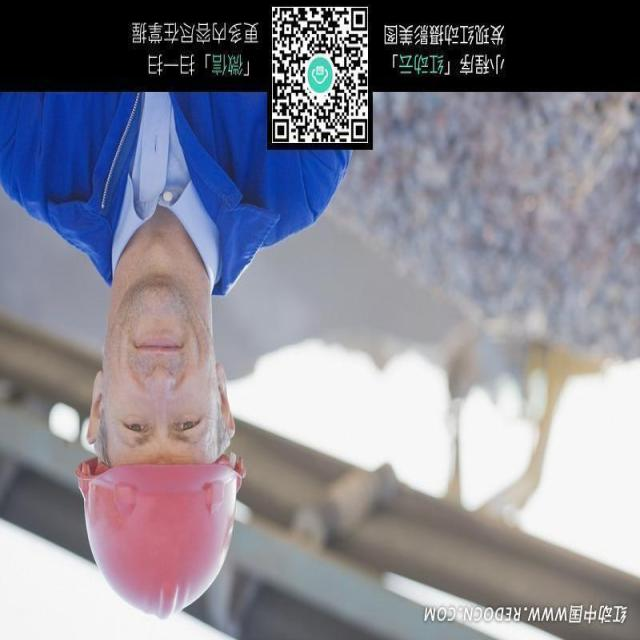helmet: (70, 452, 260, 624)
